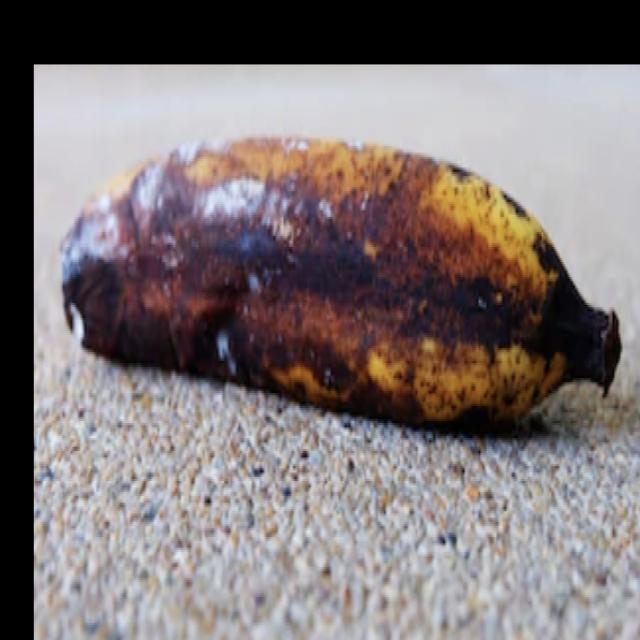Rotten: (59, 118, 627, 452)
